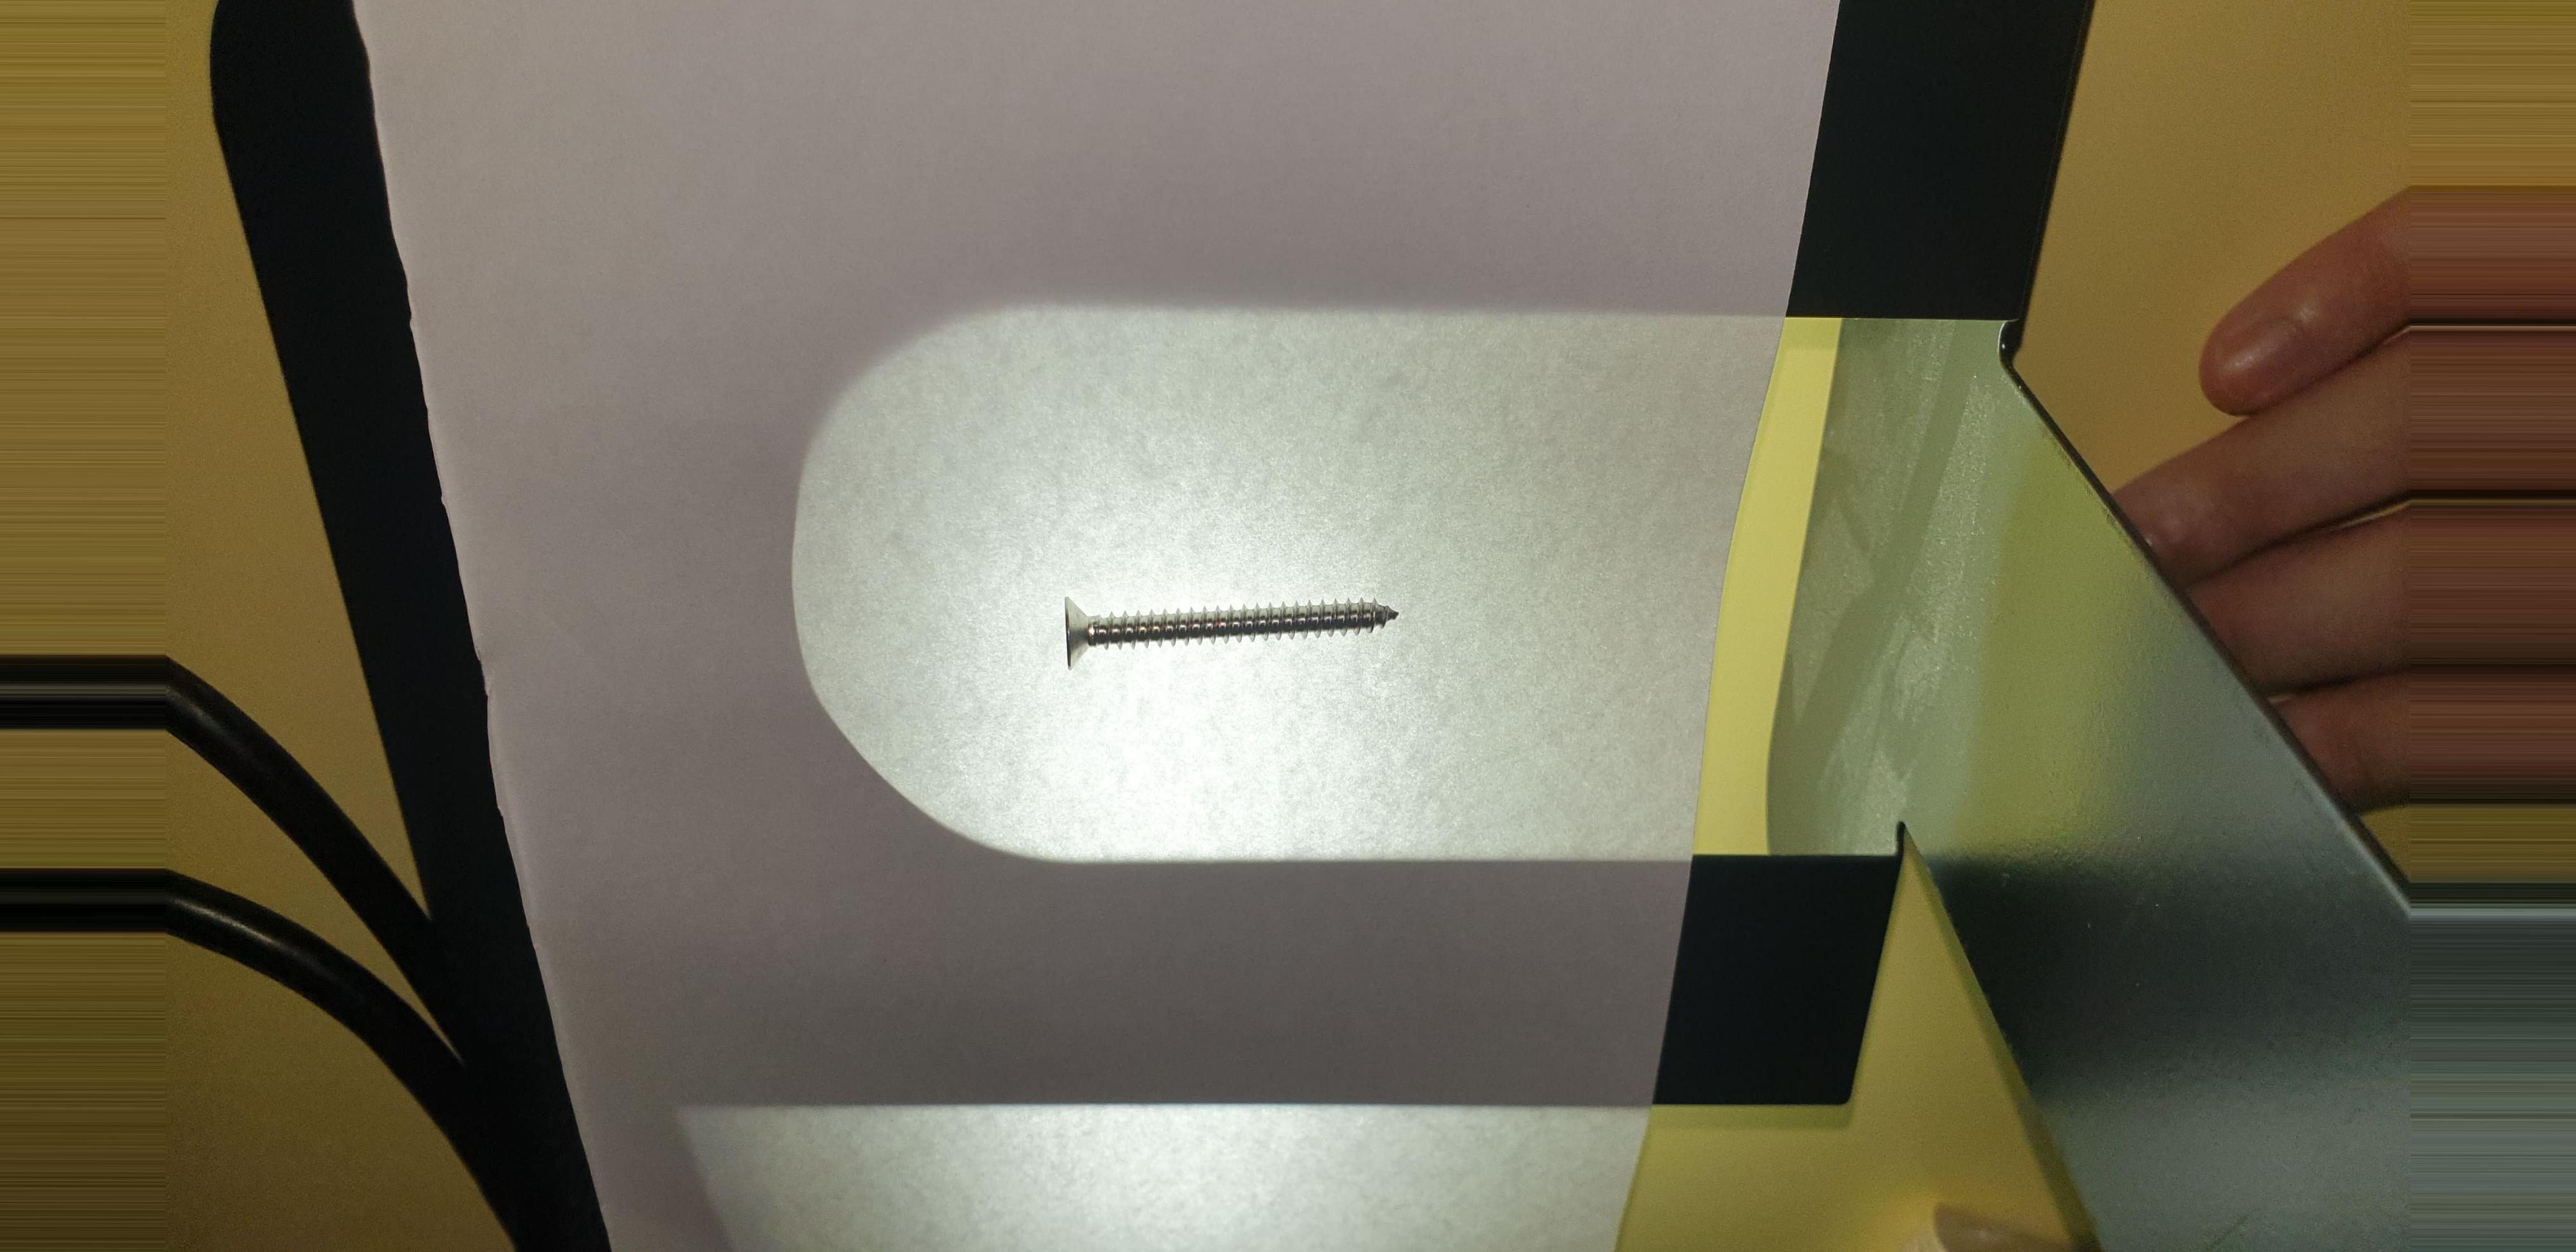fastener: (1035, 575, 1446, 677)
